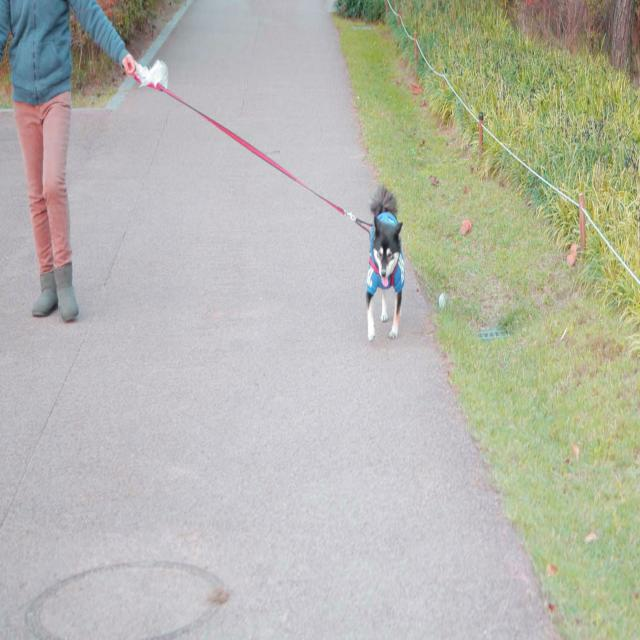Leashed_Dog: (32, 54, 404, 342)
